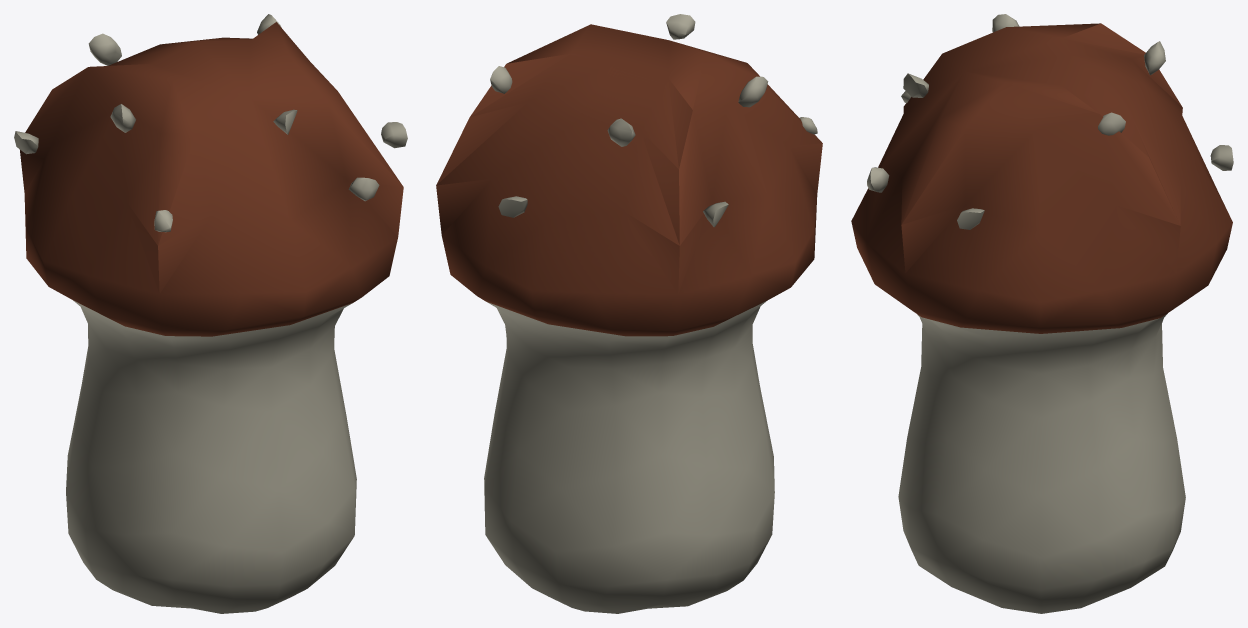
File: plant_mushroom_small_1.glb
The picture shows the model from 3 angles, left to right: view 1: azimuth 30°, elevation 25°; view 2: azimuth 150°, elevation 25°; view 3: azimuth 270°, elevation 25°; orthographic projection.
Parts seen in each view (by area): view 1: refined; view 2: refined; view 3: refined.
Boxes of the visible parts, x1=… form: refined: x1=14, y1=14, x2=407, y2=613; refined: x1=436, y1=14, x2=822, y2=613; refined: x1=851, y1=14, x2=1233, y2=613.
Size of the model in its own units: 0.2214 by 0.339 by 0.2214.
